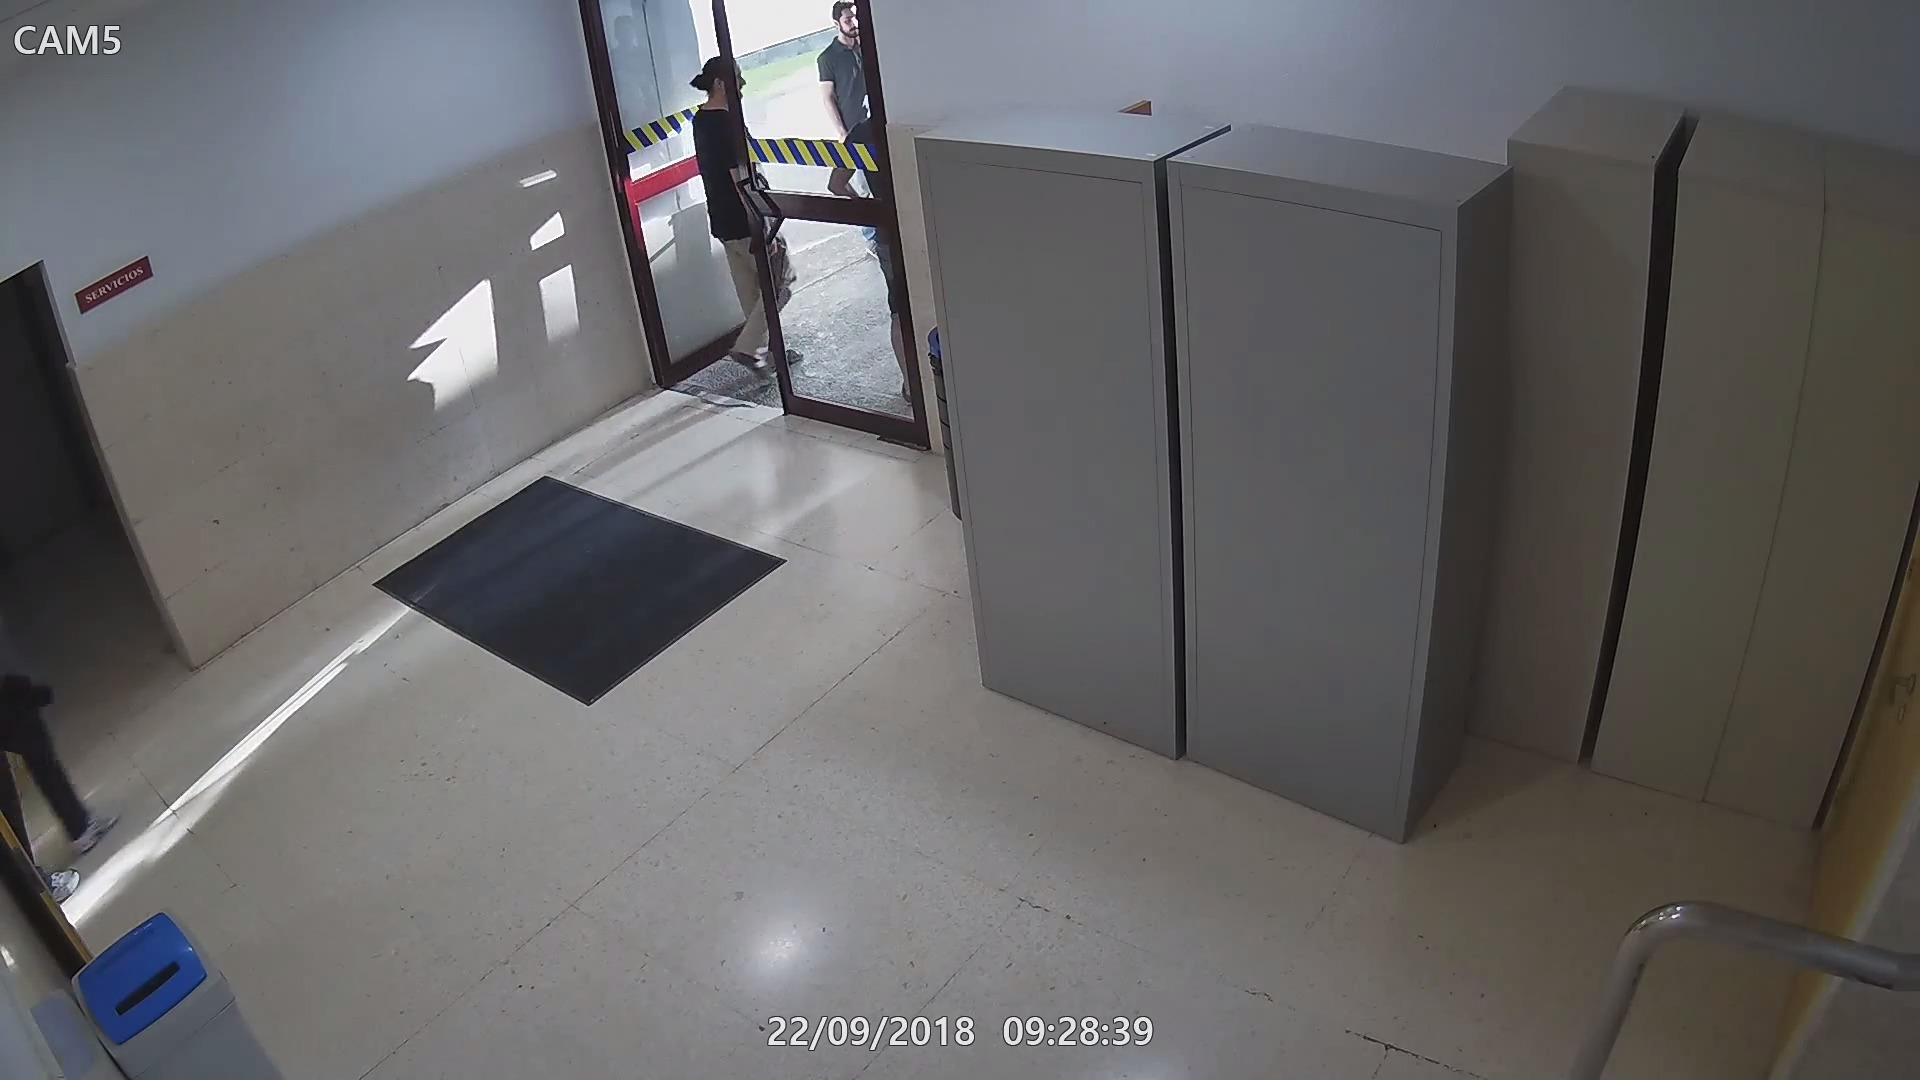Short_rifle: (749, 229, 785, 309)
